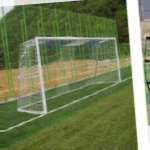goals: (16, 34, 122, 115)
